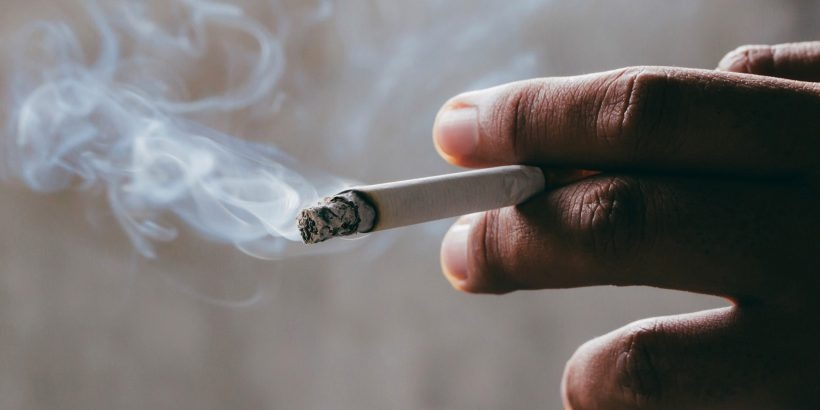sigaretta: (284, 156, 552, 244)
